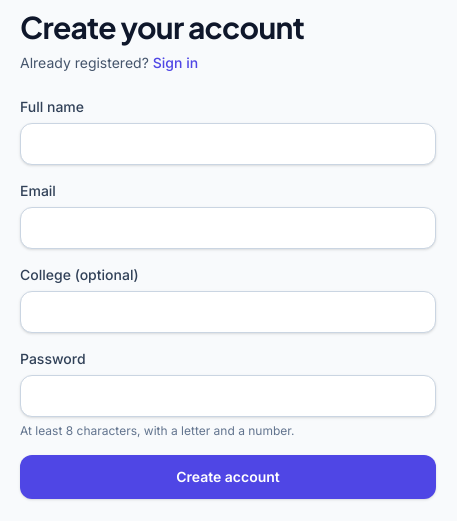
Test: Signup › maps API validation errors onto the right fields
The image size is (457, 521).
In the field labelled "Full name": (228, 144) x1=20 y1=123 x2=436 y2=165, type "Nisha Patel"
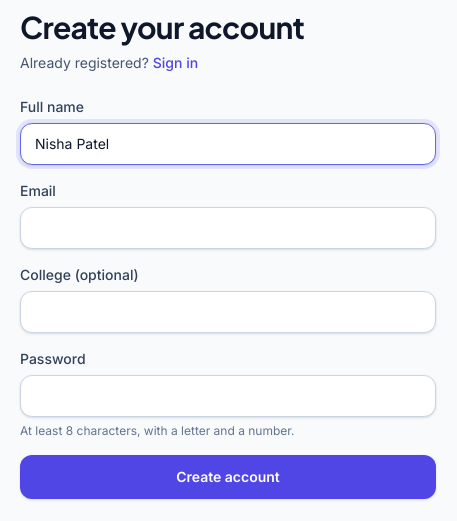
In the field labelled "Email": (228, 228) x1=20 y1=207 x2=436 y2=249, type "nisha@example.com"
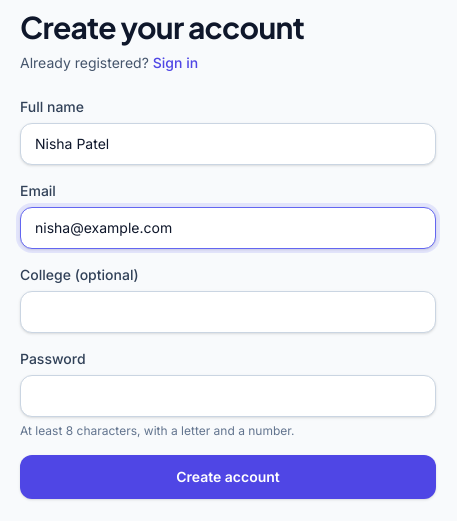
In the password field labelled "Password": (228, 396) x1=20 y1=375 x2=436 y2=417, type "onlyletters"
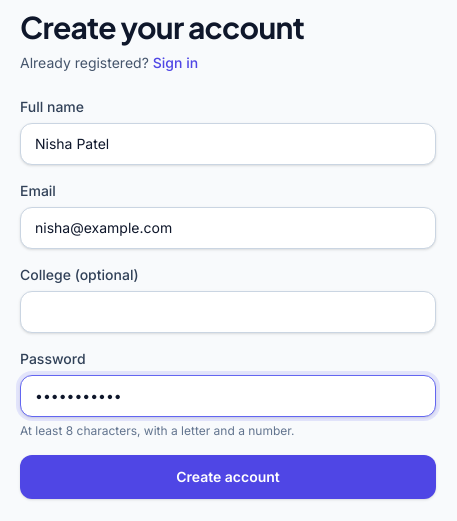
Click the button "Create account": (228, 477) x1=20 y1=455 x2=436 y2=499
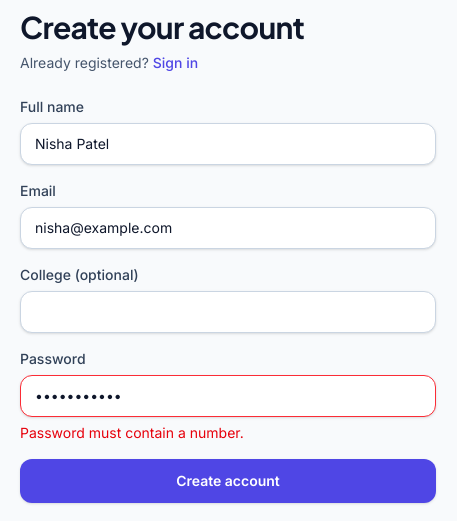
Now the text "Password must contain a number." is shown, box x1=20 y1=424 x2=244 y2=441
